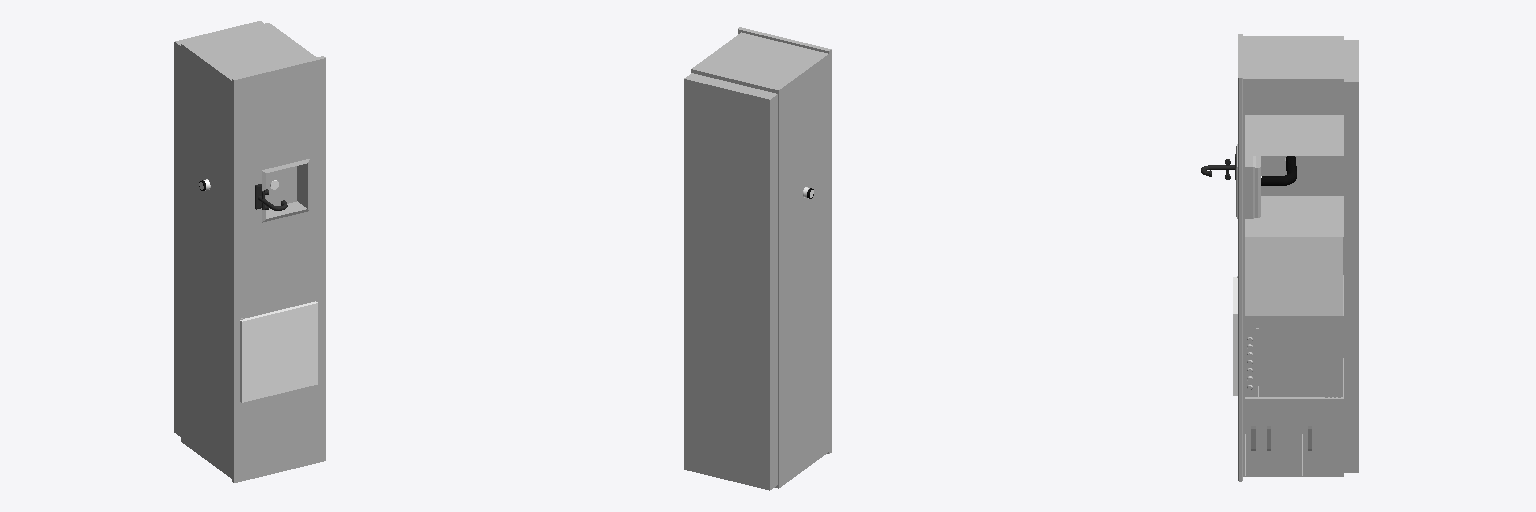
Rendered from cocina.obj.
3 renders of one model, left to right at view 1: azimuth 30°, elevation 25°; view 2: azimuth 150°, elevation 25°; view 3: azimuth 270°, elevation 25°, orthographic.
Parts seen in each view (by area): view 1: obj1, obj3, obj12; view 2: obj1; view 3: obj1, obj2, obj19, obj14, obj15, obj13, obj12, obj3, obj4.
Boxes of the visible parts, box(x1,y1,x2,y2) form: obj1: box(174, 21, 325, 482); obj3: box(240, 301, 317, 402); obj12: box(262, 159, 309, 222); obj1: box(684, 27, 831, 490); obj1: box(1235, 34, 1358, 481); obj2: box(1237, 276, 1342, 397); obj19: box(1245, 237, 1342, 315); obj14: box(1261, 400, 1301, 475); obj15: box(1303, 400, 1343, 475); obj13: box(1246, 400, 1260, 475); obj12: box(1236, 144, 1255, 218); obj3: box(1233, 277, 1237, 395); obj4: box(1261, 156, 1296, 185).
Bounding box in the file's own units: 2.75 × 10.77 × 3.85.